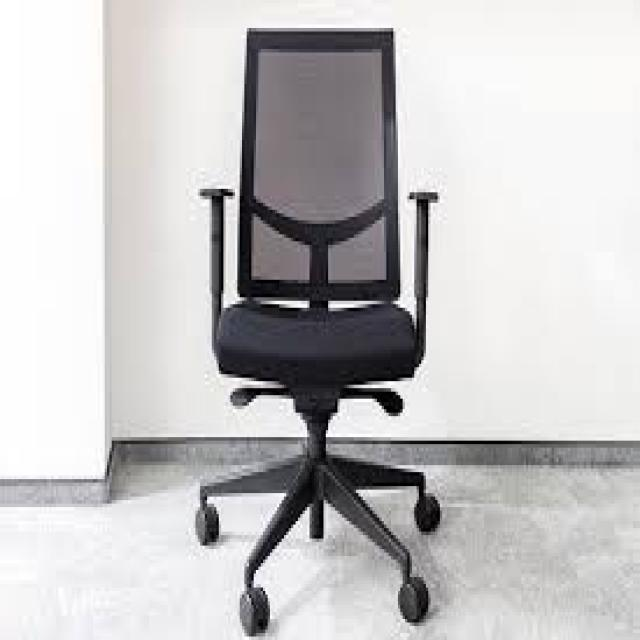chair: (176, 15, 478, 640)
